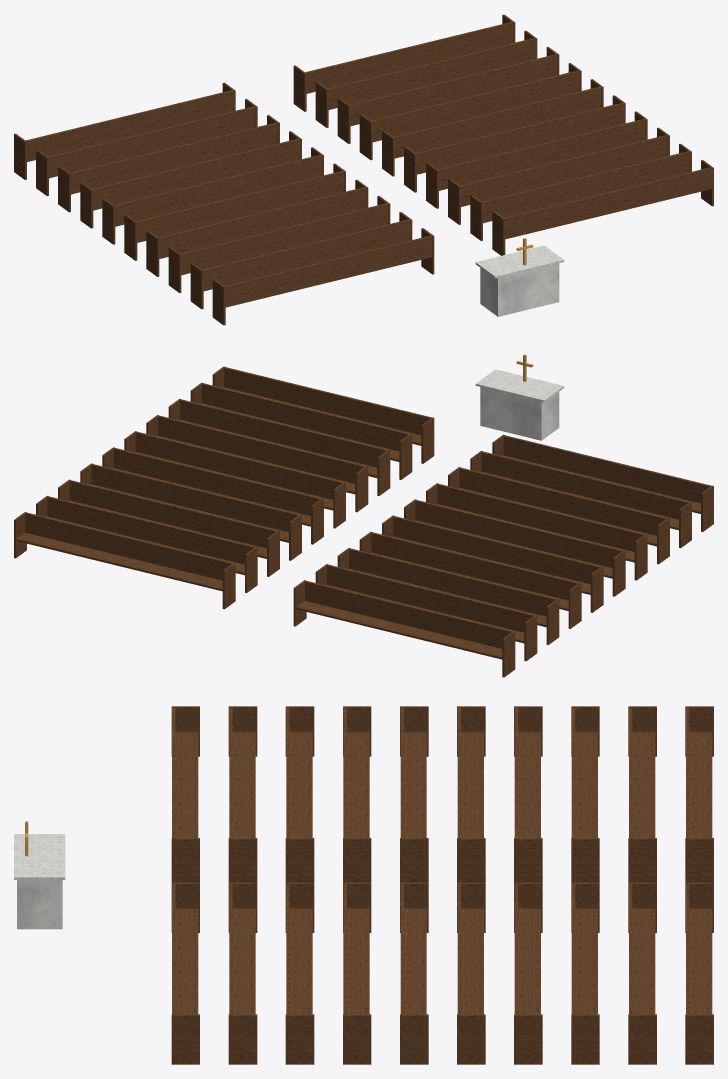
The model's file is i_egyptian_temple.gltf.
The picture shows the model from 3 angles, top to bottom: view 1: azimuth 30°, elevation 25°; view 2: azimuth 150°, elevation 25°; view 3: azimuth 270°, elevation 25°; orthographic projection. The views are drawn at different scales.
Parts seen in each view (by area): view 1: I_egyptian_temple; view 2: I_egyptian_temple; view 3: I_egyptian_temple.
Boxes of the visible parts, x1,y1,x2,y2 form: I_egyptian_temple: [14, 14, 713, 325]; I_egyptian_temple: [14, 354, 713, 677]; I_egyptian_temple: [14, 706, 713, 1064].
Bounding box in the file's own units: 12.82 × 1.7 × 12.26.
4 materials, 3 textured.
